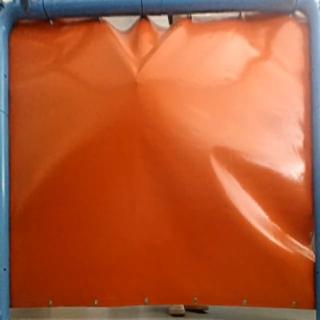Hit-hRxx: (129, 73, 145, 89)
